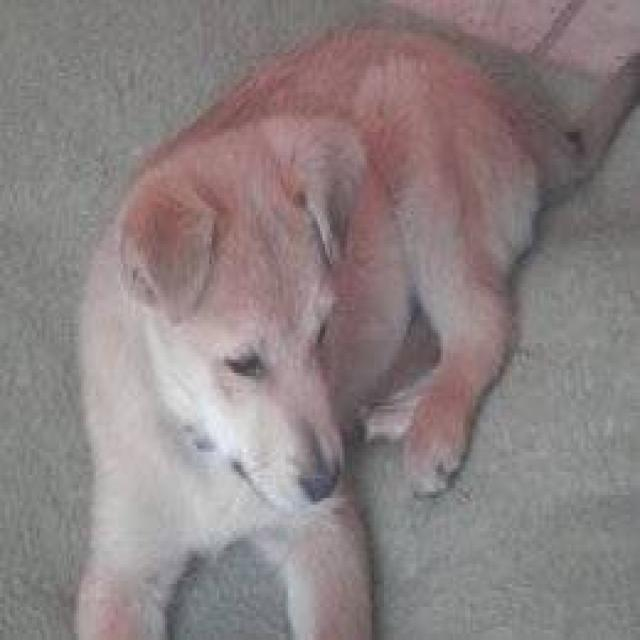dog: (72, 0, 638, 637)
